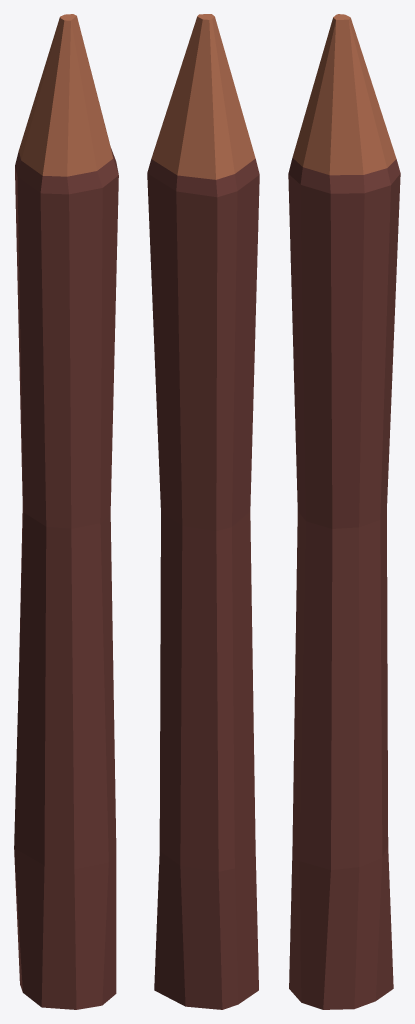
The model's file is Wooden Pole Sharp 13.fbx.
3 views of the same model, side by side, from view 1: azimuth 30°, elevation 25°; view 2: azimuth 150°, elevation 25°; view 3: azimuth 330°, elevation 25° (orthographic).
Parts seen in each view (by area): view 1: Wooden Pole Sharp 13; view 2: Wooden Pole Sharp 13; view 3: Wooden Pole Sharp 13.
Part boxes in pixels (box(x1,y1,x2,y2)): Wooden Pole Sharp 13: box(14, 14, 118, 1009); Wooden Pole Sharp 13: box(147, 14, 259, 1009); Wooden Pole Sharp 13: box(288, 14, 400, 1009).
Bounding box in the file's own units: 28.31 × 292 × 28.4.
